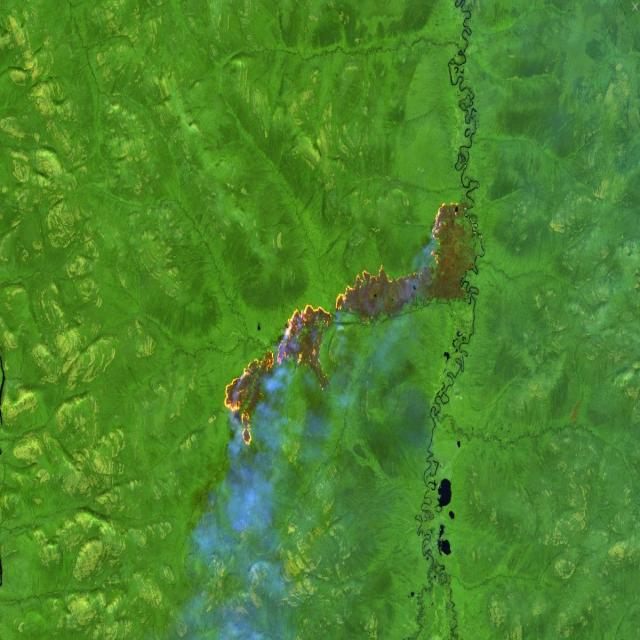fire: (219, 196, 466, 451)
